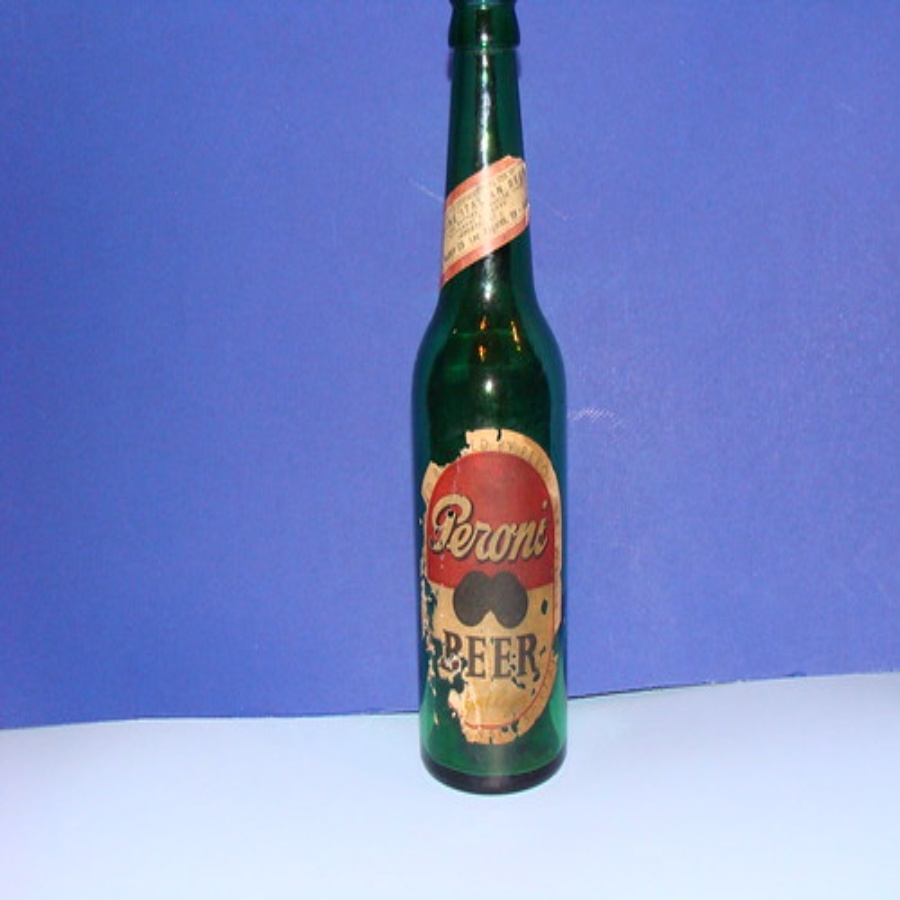beer: (411, 14, 579, 785)
